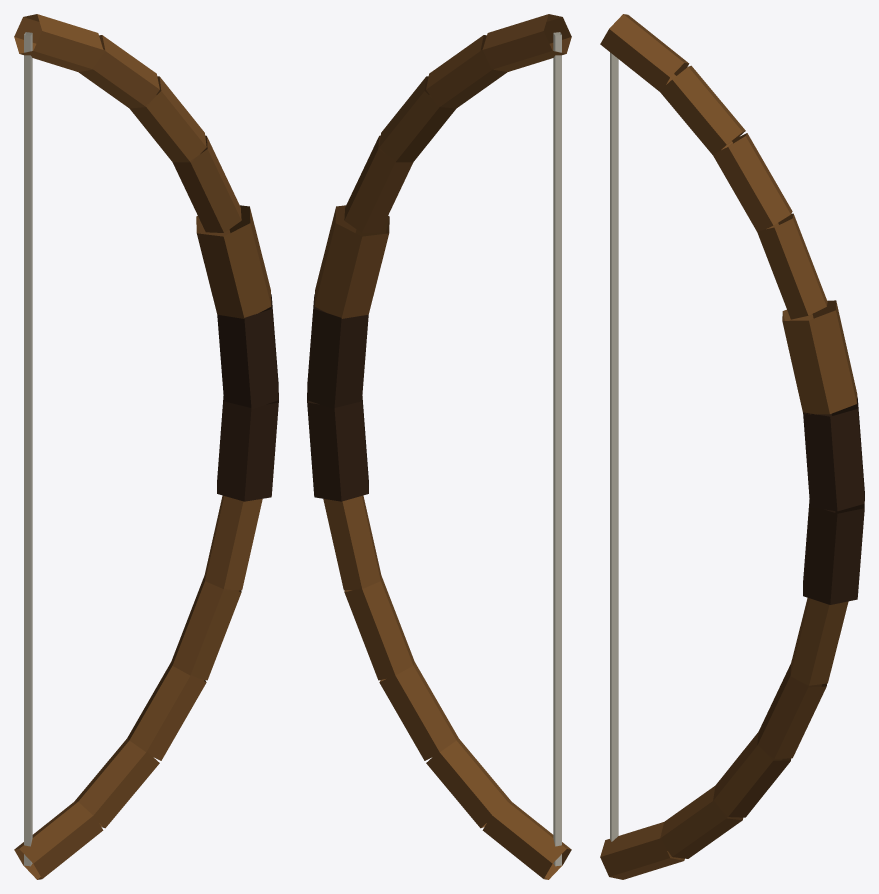
Rendered from w_bow.glb.
3 views of the same model, side by side, from view 1: azimuth 30°, elevation 25°; view 2: azimuth 150°, elevation 25°; view 3: azimuth 330°, elevation 25° (orthographic).
Parts seen in each view (by area): view 1: w_bow; view 2: w_bow; view 3: w_bow.
Boxes of the visible parts, <box> form: w_bow: <box>14,14,278,879</box>; w_bow: <box>307,14,571,879</box>; w_bow: <box>600,14,864,879</box>.
Bounding box in the file's own units: 0.4739 × 1.51 × 0.0866.
